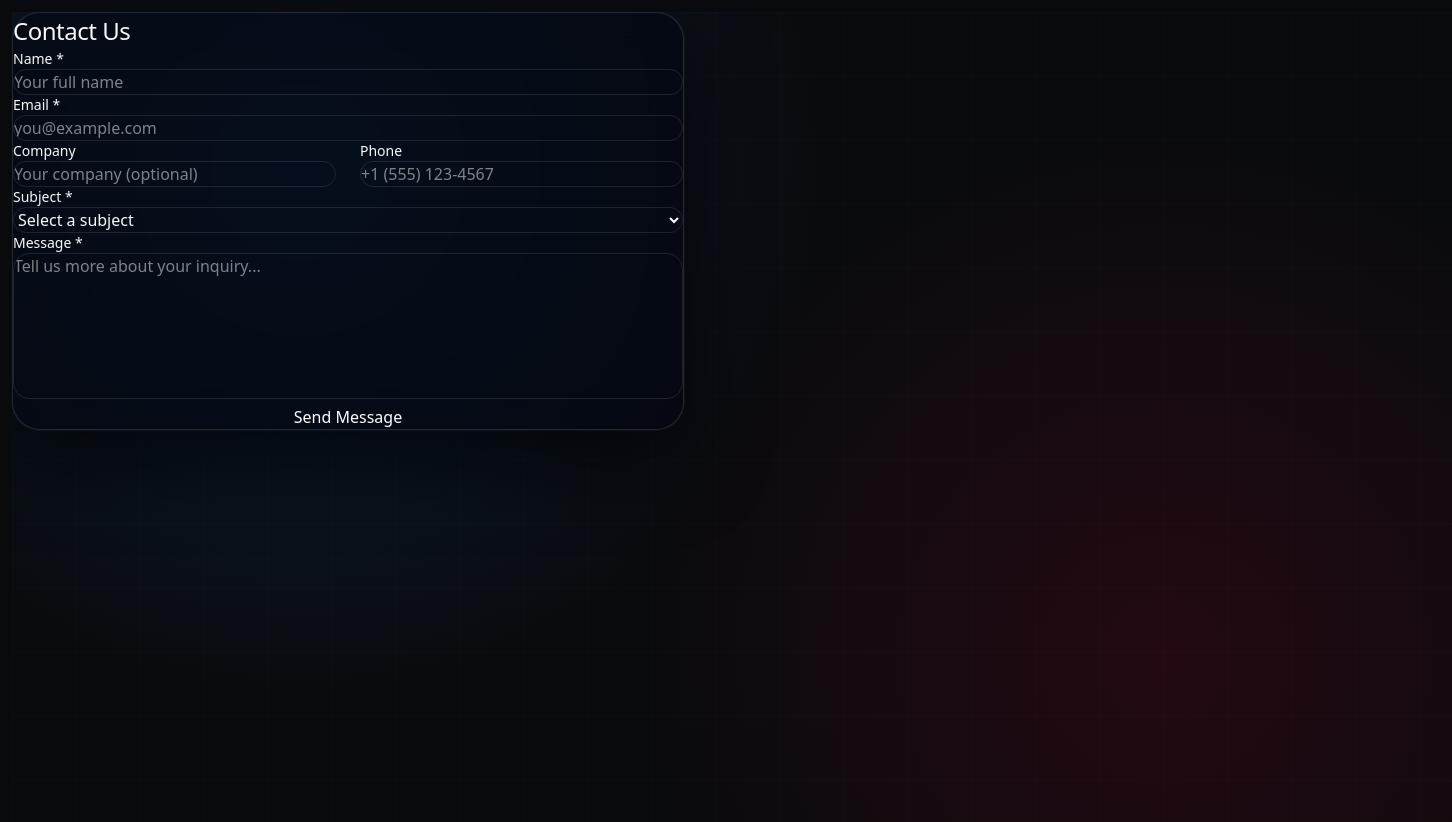
ContactForm › submits form and shows success message
Type "Jane Builder" into the field labelled "Name *".
click(348, 82); type("Jane Builder")  # box [13,69,683,95]
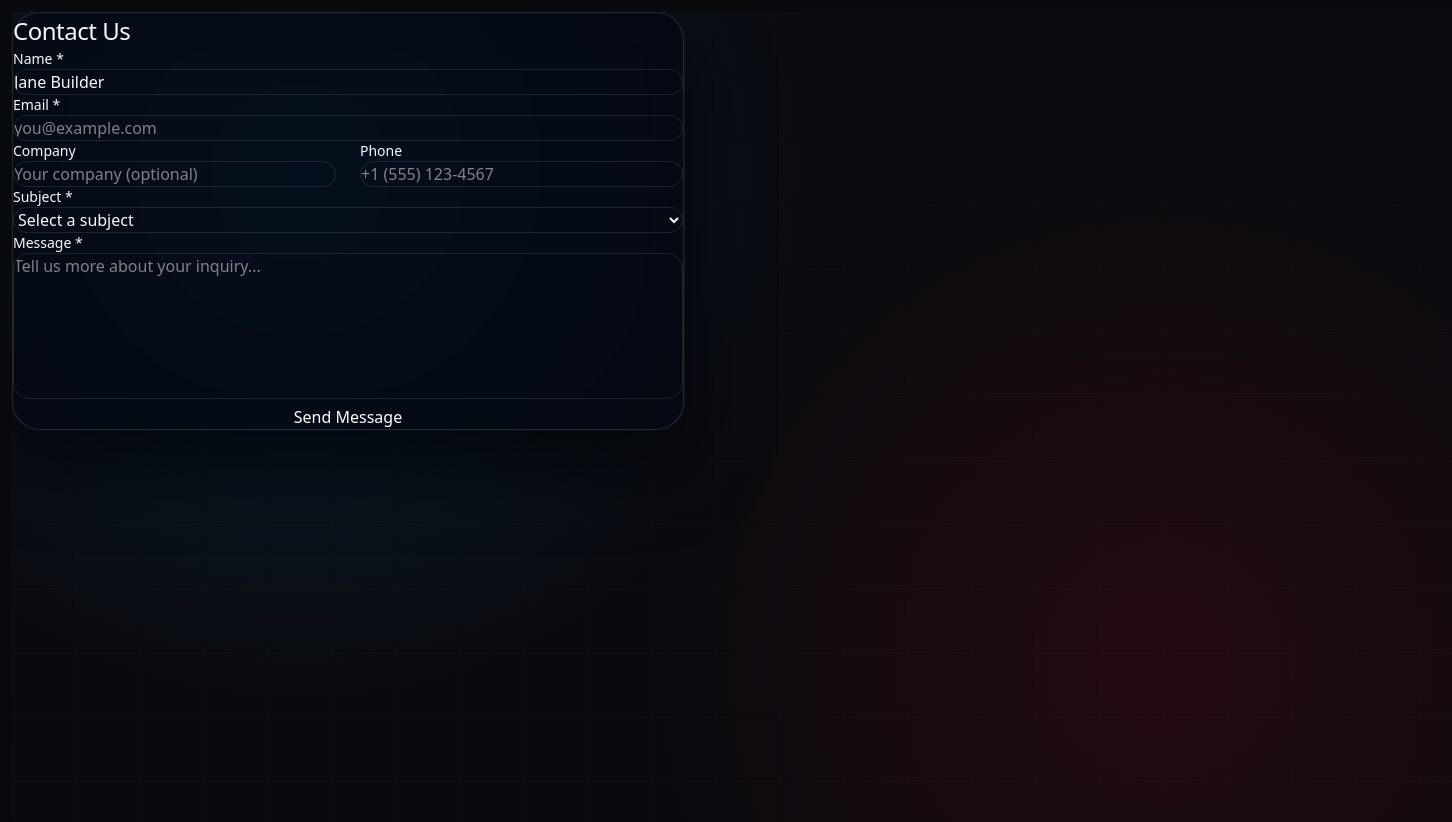
Type "jane@skc.com" into the field labelled "Email *".
click(348, 128); type("jane@skc.com")  # box [13,115,683,141]
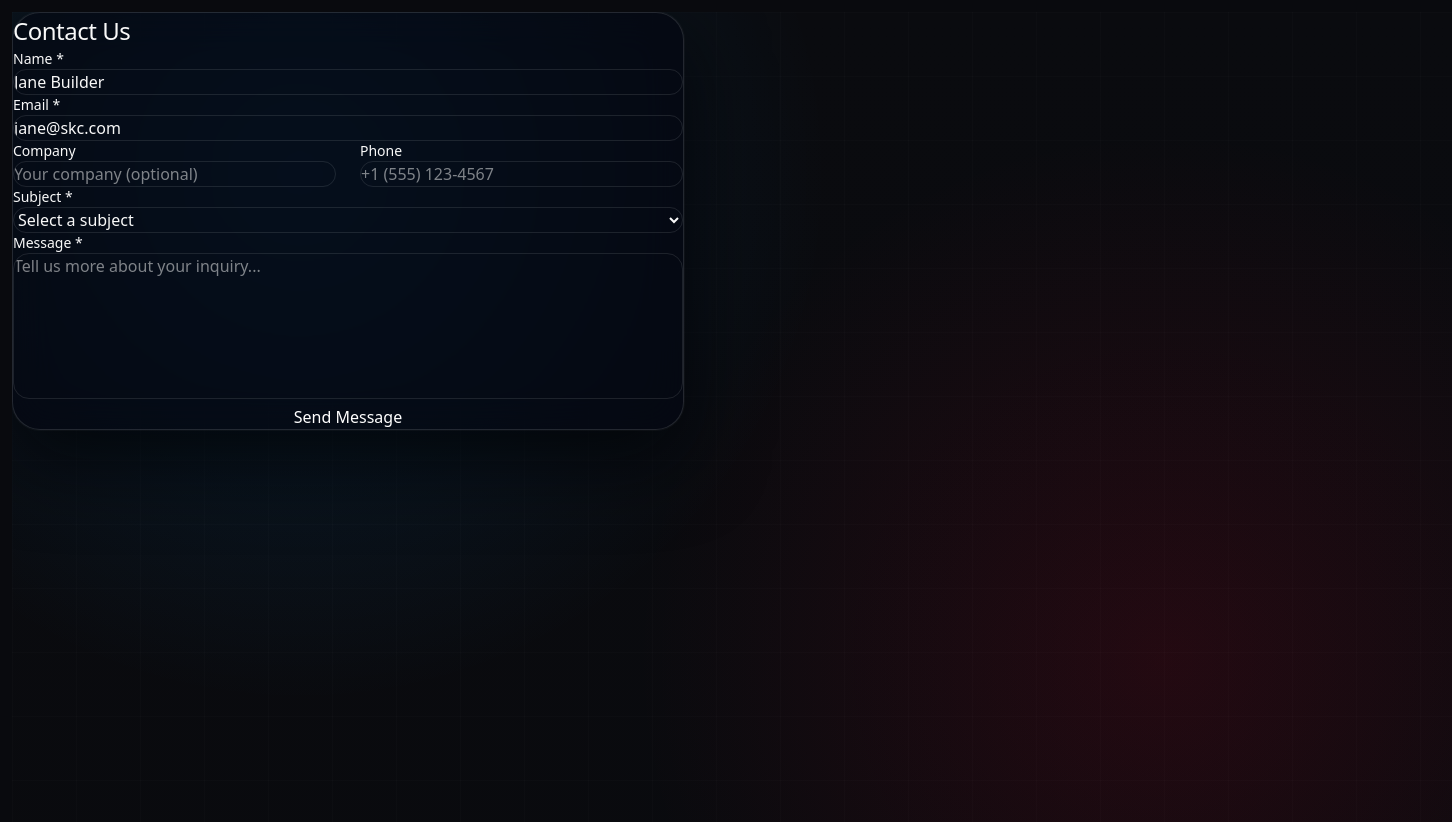
Select "General Inquiry" in the dropdown labelled "Subject *" at (348, 220), box [13,207,683,233]
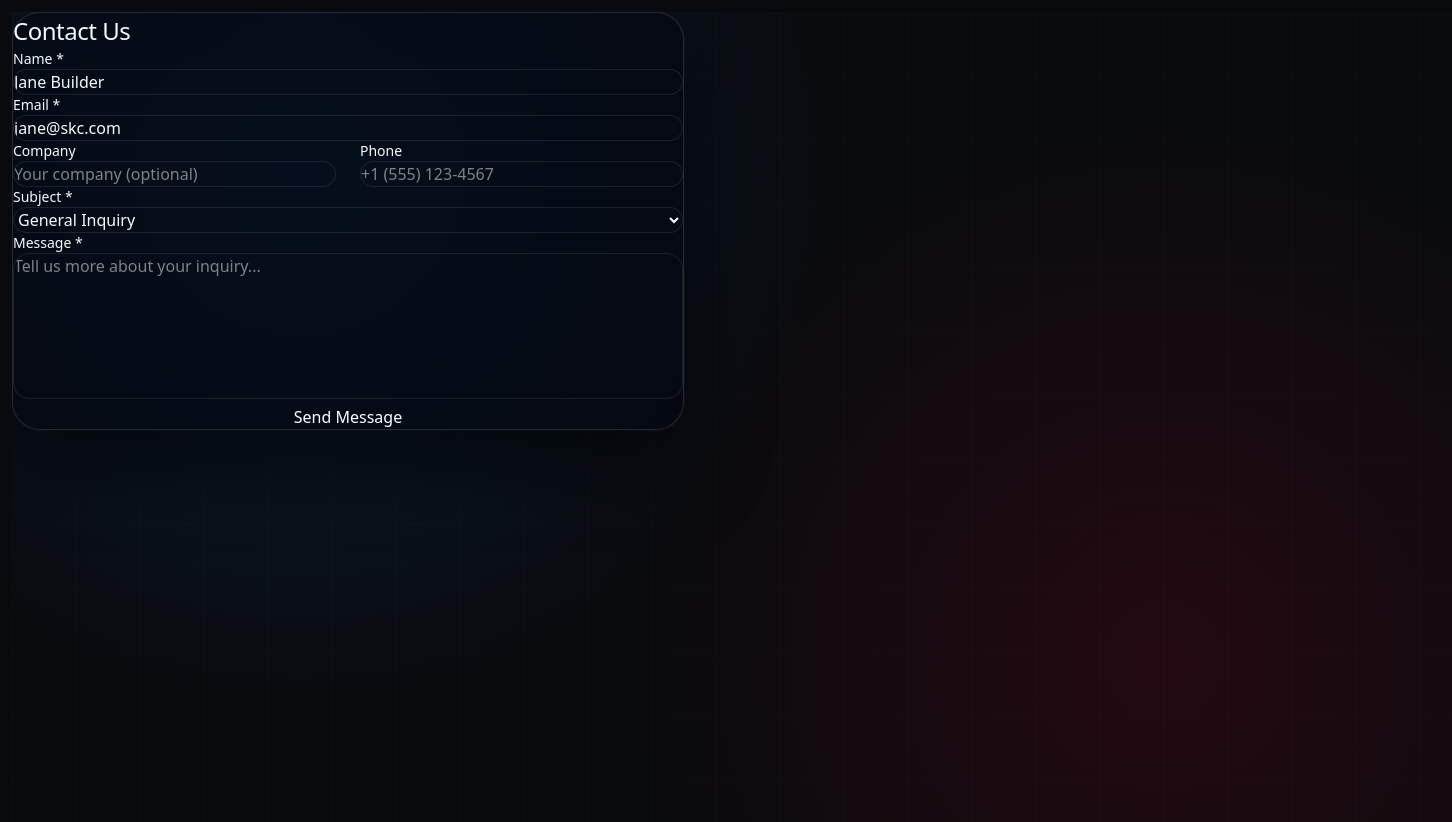
Type "Looking to discuss copper foil pilots." into the text box labelled "Message *".
click(348, 326); type("Looking to discuss copper foil pilots.")  # box [13,253,683,399]
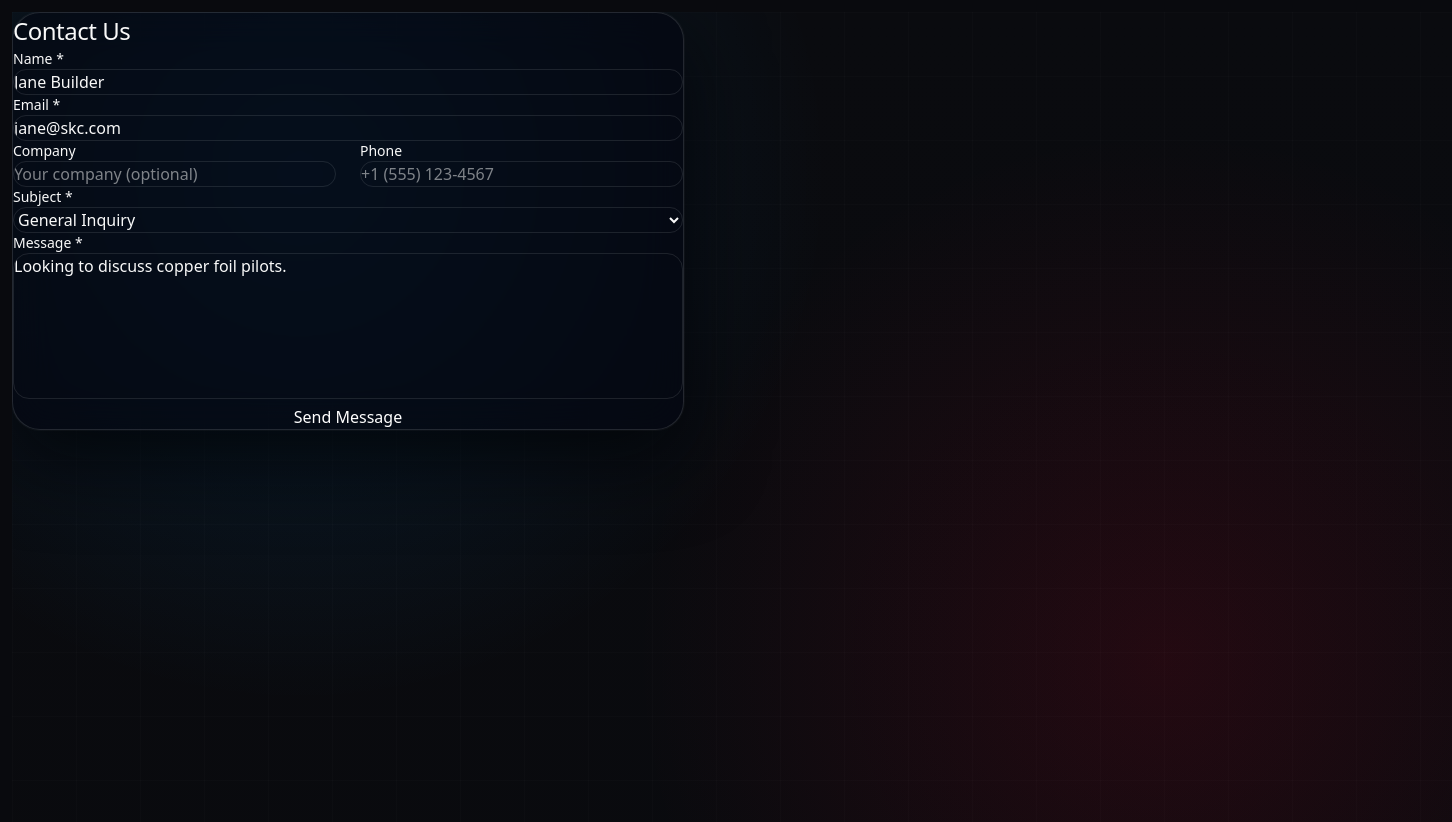
Click the button "Send Message".
click(348, 417)  # box [13,405,683,429]
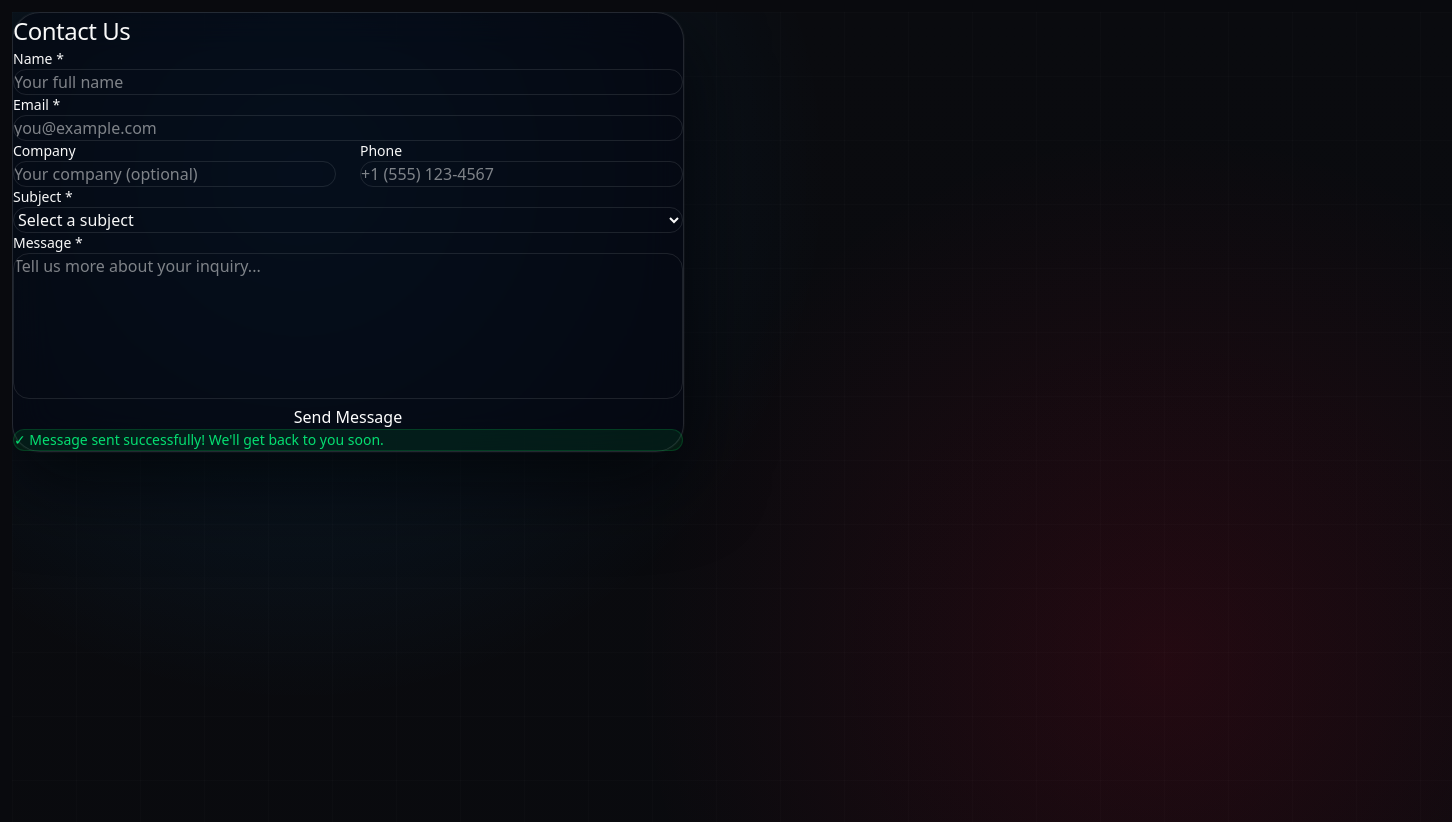
Check: the text "✓ Message sent successfully! We'll get back to you soon." is shown, box [13,429,683,451]
